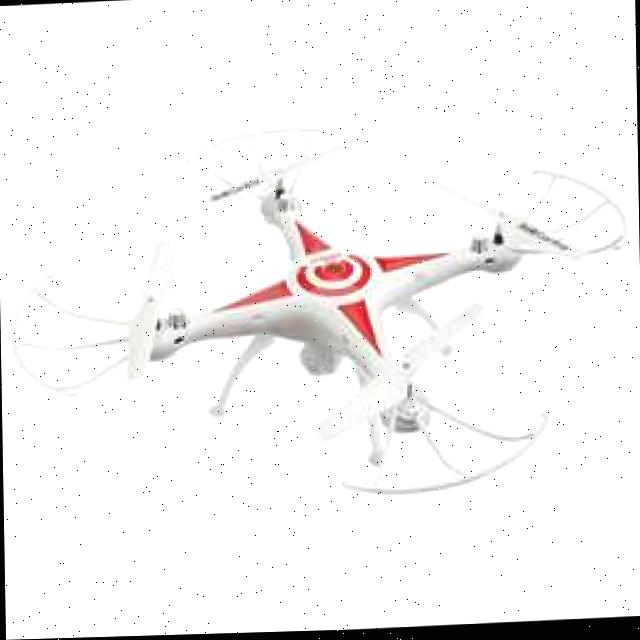drone: (4, 119, 634, 494)
